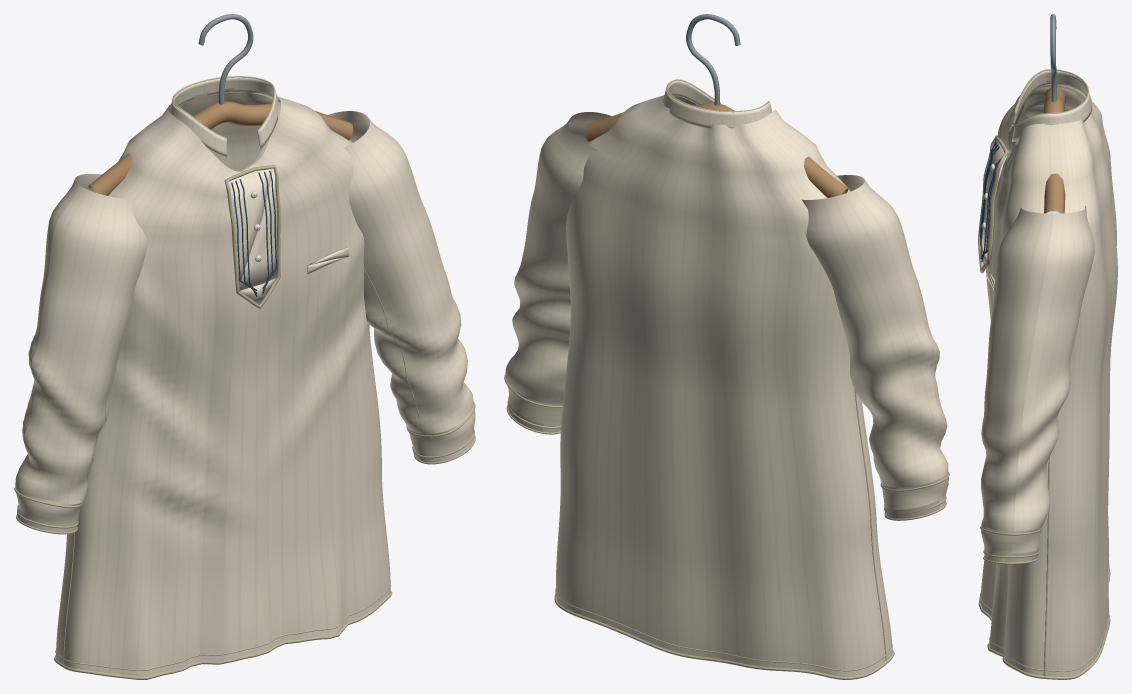
File: kaftan.glb
The picture shows the model from 3 angles, left to right: view 1: azimuth 30°, elevation 25°; view 2: azimuth 150°, elevation 25°; view 3: azimuth 270°, elevation 25°; orthographic projection. The views are drawn at different scales.
Parts seen in each view (by area): view 1: kaftan woven shell, Topstitched cloth edge, Warm beech, Yoke and facing, Indigo embroidery, Brushed steel; view 2: kaftan woven shell, Topstitched cloth edge, Warm beech, Brushed steel, Yoke and facing; view 3: kaftan woven shell, Topstitched cloth edge, Warm beech, Yoke and facing, Indigo embroidery, Brushed steel.
Part boxes in pixels (x1,y1,x2,y2): kaftan woven shell: [15, 77, 475, 676]; Topstitched cloth edge: [14, 76, 475, 679]; Warm beech: [88, 101, 353, 195]; Yoke and facing: [17, 90, 280, 519]; Indigo embroidery: [231, 171, 276, 296]; Brushed steel: [198, 14, 253, 104]; kaftan woven shell: [505, 80, 948, 676]; Topstitched cloth edge: [504, 79, 949, 679]; Warm beech: [584, 102, 848, 197]; Brushed steel: [686, 14, 740, 105]; Yoke and facing: [508, 92, 940, 518]; kaftan woven shell: [980, 70, 1117, 676]; Topstitched cloth edge: [978, 69, 1110, 679]; Warm beech: [1043, 87, 1066, 213]; Yoke and facing: [1004, 81, 1083, 562]; Indigo embroidery: [980, 142, 1001, 262]; Brushed steel: [1050, 14, 1056, 101].
Bounding box in the file's own units: 2.01 × 2.66 × 0.5641.
Materials: 9 (1 with a texture image).
